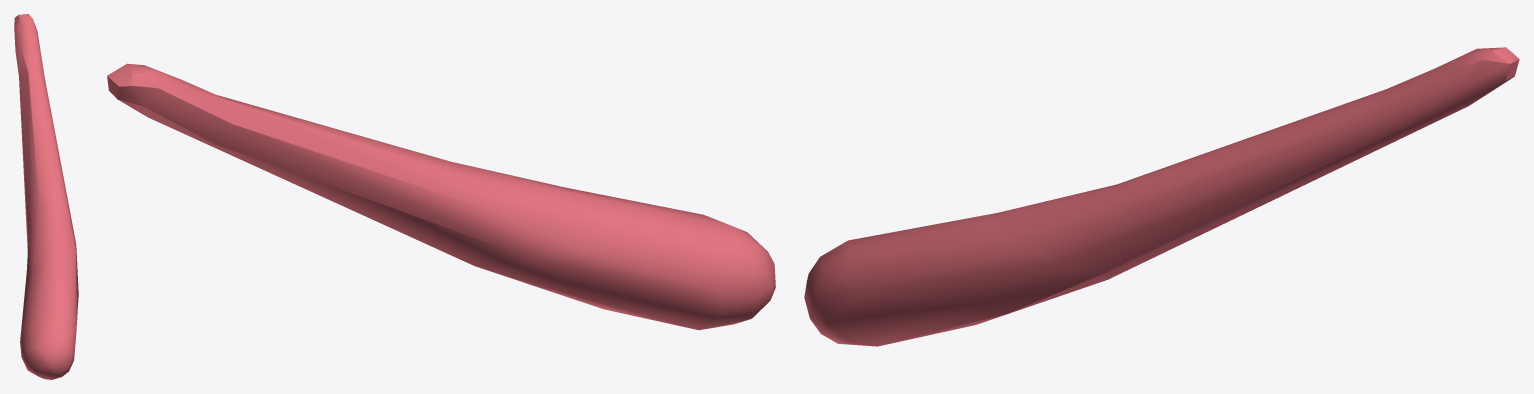
The model's file is fma8666_fj6034.glb.
The picture shows the model from 3 angles, left to right: view 1: azimuth 30°, elevation 25°; view 2: azimuth 150°, elevation 25°; view 3: azimuth 270°, elevation 25°; orthographic projection. The views are drawn at different scales.
Visible parts, largest first — view 1: FMA8666_FJ6034; view 2: FMA8666_FJ6034; view 3: FMA8666_FJ6034.
Part boxes in pixels (box(x1,y1,x2,y2)): FMA8666_FJ6034: box(14, 14, 78, 379); FMA8666_FJ6034: box(107, 63, 775, 330); FMA8666_FJ6034: box(804, 47, 1519, 346).
Size of the model in its own units: 0.00712 by 0.00861 by 0.0131.
